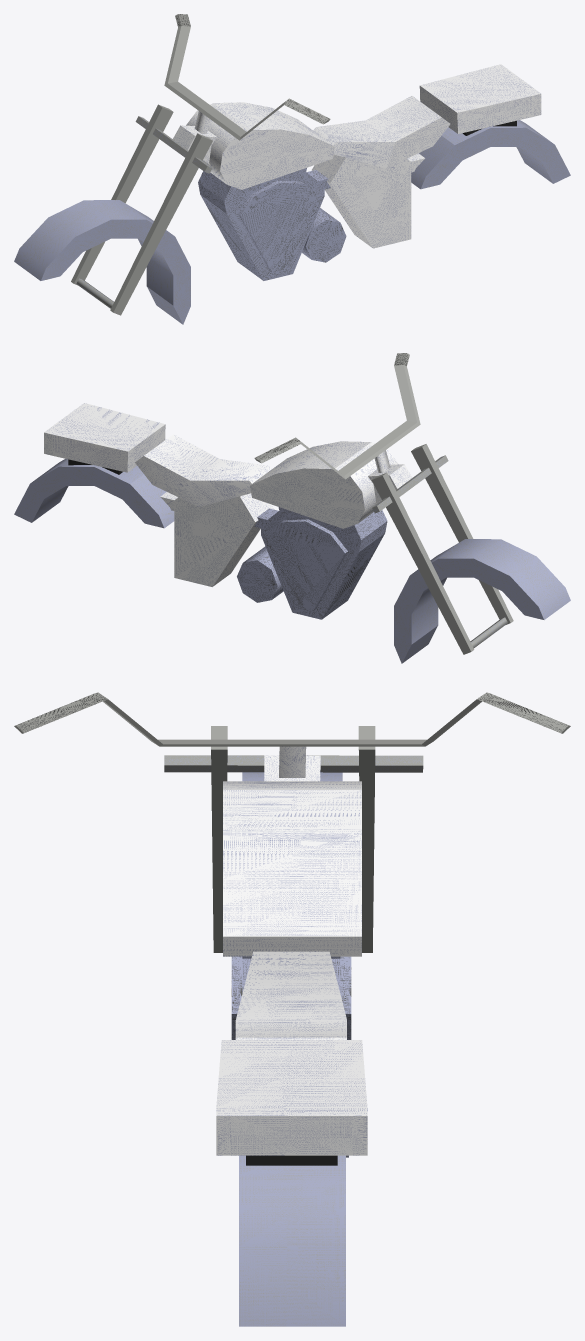
The model's file is motorcycle.fbx.
3 renders of one model, top to bottom at view 1: azimuth 30°, elevation 25°; view 2: azimuth 150°, elevation 25°; view 3: azimuth 270°, elevation 25°, orthographic. The views are drawn at different scales.
Visible parts, largest first — view 1: Model; view 2: Model; view 3: Model.
Part boxes in pixels (x1,y1,x2,y2): Model: (14,14,570,324); Model: (14,353,570,663); Model: (14,692,570,1326).
Bounding box in the file's own units: 2.18 × 0.926 × 1.06.
